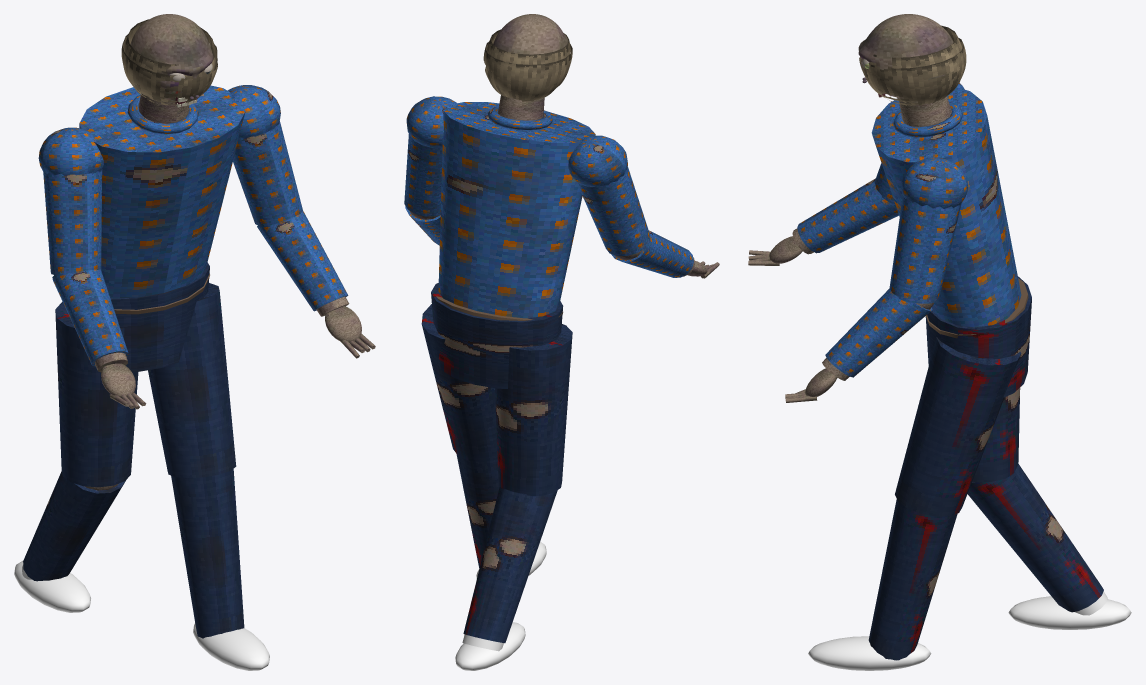
File: Zombie_047.glb
3 renders of one model, left to right at view 1: azimuth 30°, elevation 25°; view 2: azimuth 150°, elevation 25°; view 3: azimuth 270°, elevation 25°, orthographic. The views are drawn at different scales.
Visible parts, largest first — view 1: Zombie_047, object 12, object 4, object 18, object 45, object 44, object 13, object 5; view 2: Zombie_047, object 45, object 18, object 4, object 44, object 12; view 3: Zombie_047, object 12, object 4, object 18, object 45, object 44, object 5, object 13.
Boxes of the visible parts, box(x1,y1,x2,y2) form: Zombie_047: box(14, 85, 303, 670); object 12: box(257, 211, 348, 311); object 4: box(52, 269, 128, 366); object 18: box(130, 14, 214, 102); object 45: box(121, 34, 217, 106); object 44: box(124, 19, 216, 103); object 13: box(325, 306, 361, 342); object 5: box(101, 363, 135, 396); Zombie_047: box(404, 95, 650, 670); object 45: box(483, 41, 572, 101); object 18: box(493, 14, 568, 54); object 4: box(611, 230, 693, 277); object 44: box(486, 29, 570, 71); object 12: box(405, 206, 440, 245); Zombie_047: box(808, 82, 1131, 670); object 12: box(825, 288, 932, 377); object 4: box(797, 178, 898, 253); object 18: box(858, 14, 953, 98); object 45: box(859, 38, 966, 105); object 44: box(862, 25, 962, 102); object 5: box(769, 236, 802, 263); object 13: box(805, 368, 837, 396).
Bounding box in the file's own units: 0.7968 × 1.77 × 0.9758.
Materials: 16 (6 with a texture image).
